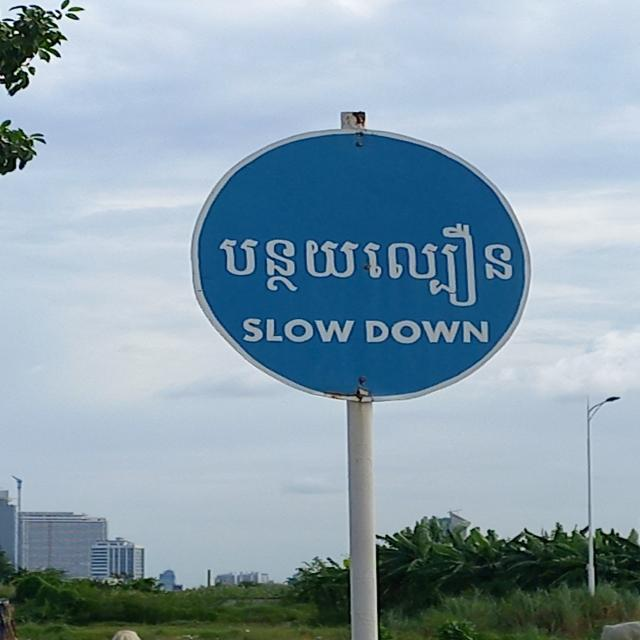Yolov11kh: (215, 218, 520, 308)
